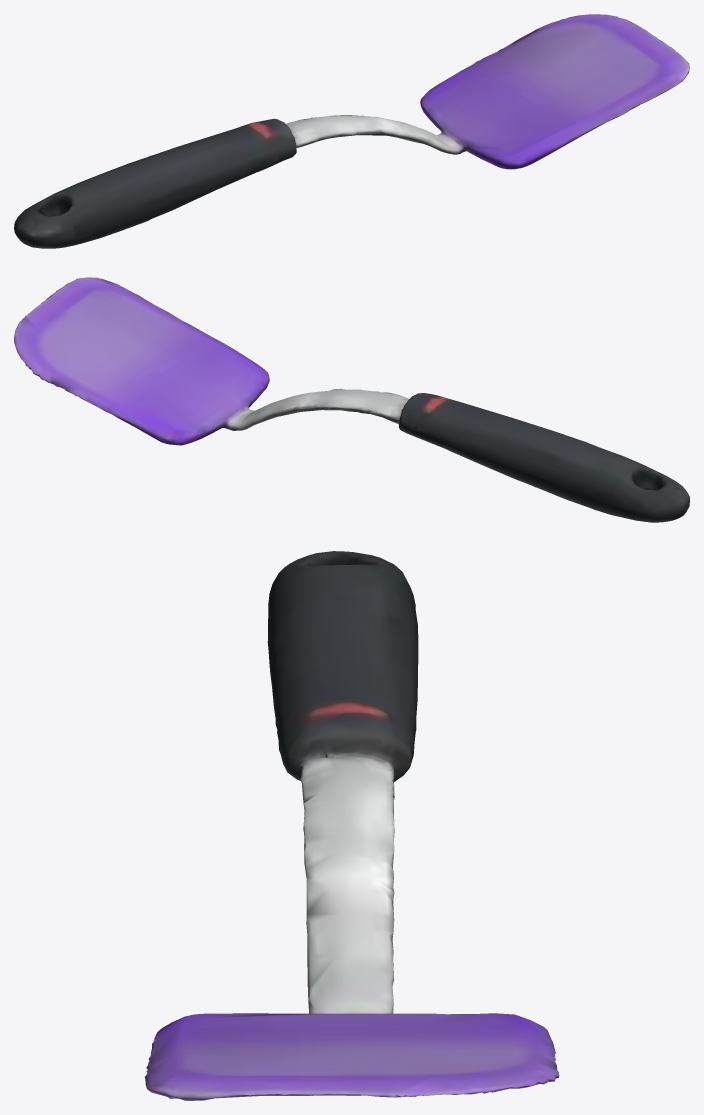
File: OXO_Cookie_Spatula-high.glb
3 renders of one model, top to bottom at view 1: azimuth 30°, elevation 25°; view 2: azimuth 150°, elevation 25°; view 3: azimuth 270°, elevation 25°, orthographic. The views are drawn at different scales.
Visible parts, largest first — view 1: OXO_Cookie_Spatula; view 2: OXO_Cookie_Spatula; view 3: OXO_Cookie_Spatula.
Part boxes in pixels (<box>): OXO_Cookie_Spatula: <box>14,14,689,248</box>; OXO_Cookie_Spatula: <box>14,277,689,522</box>; OXO_Cookie_Spatula: <box>144,551,559,1100</box>.
Bounding box in the file's own units: 0.2401 × 0.0247 × 0.0679.
Materials: 1 (1 with a texture image).
